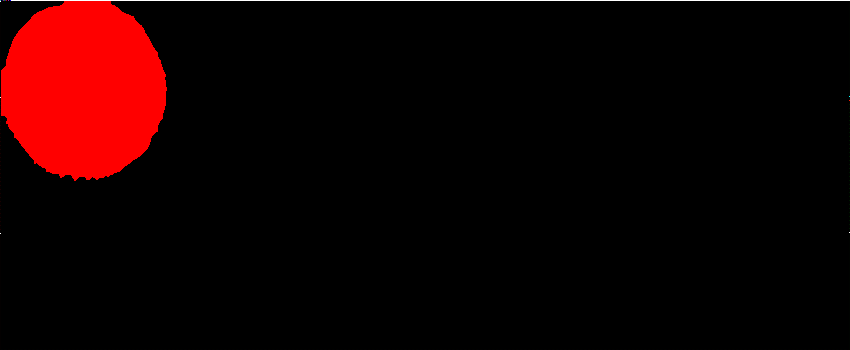stamp: (1, 1, 167, 182)
